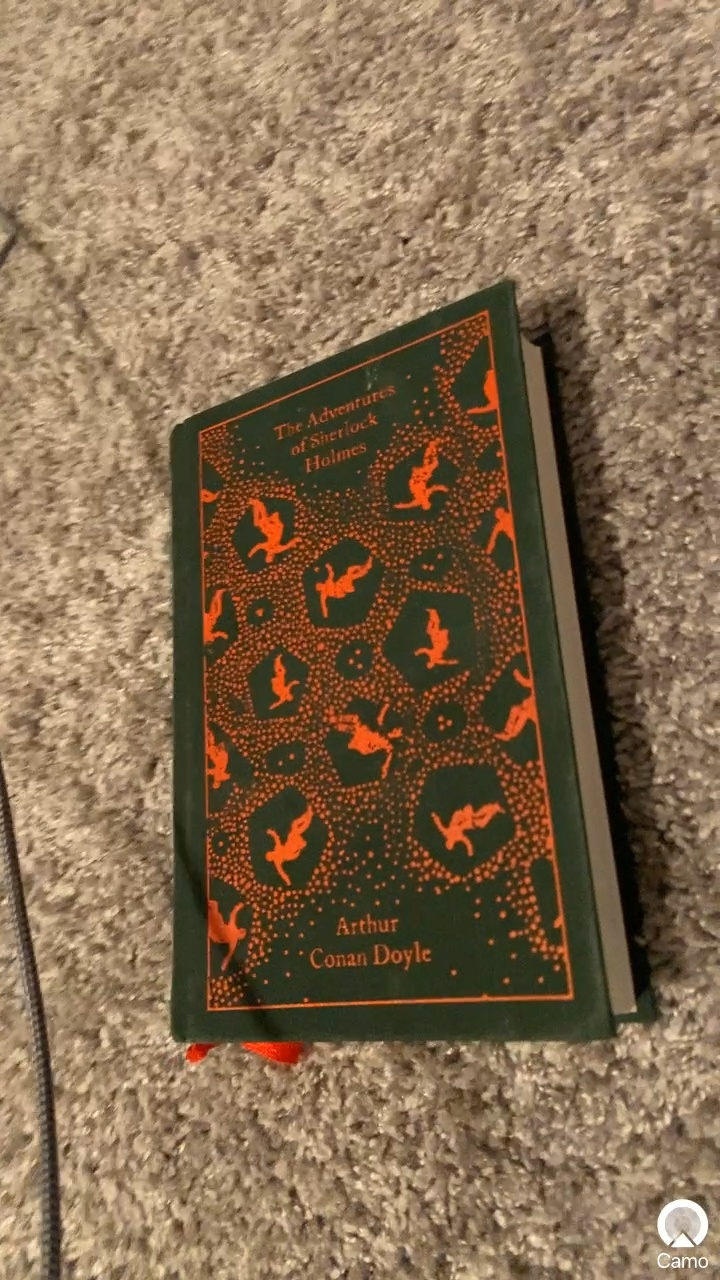Book: (150, 260, 681, 1080)
